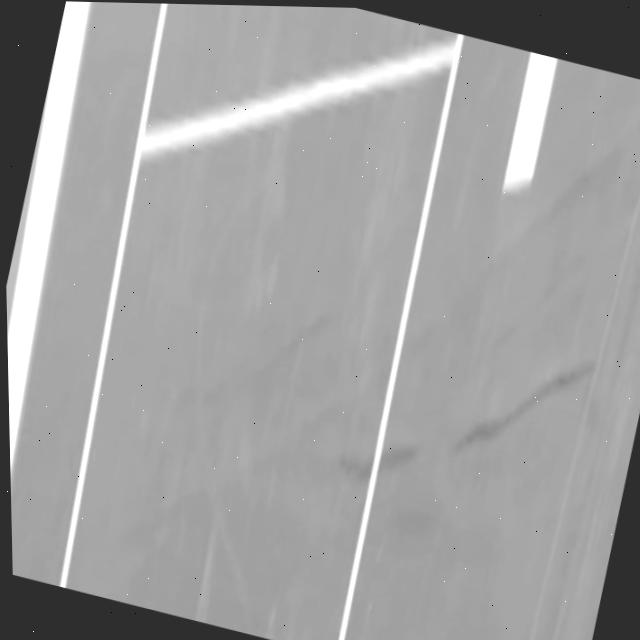center: (502, 52, 556, 193)
left: (7, 1, 89, 470)
